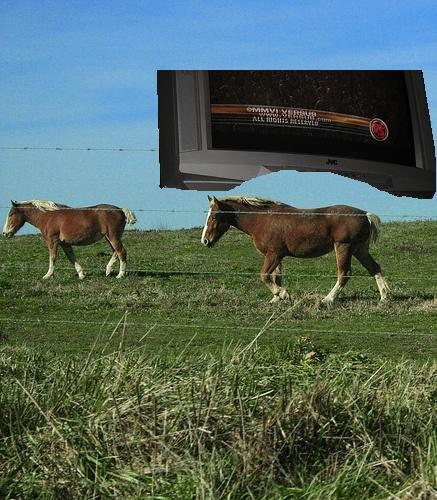tampered: (158, 71, 436, 199)
